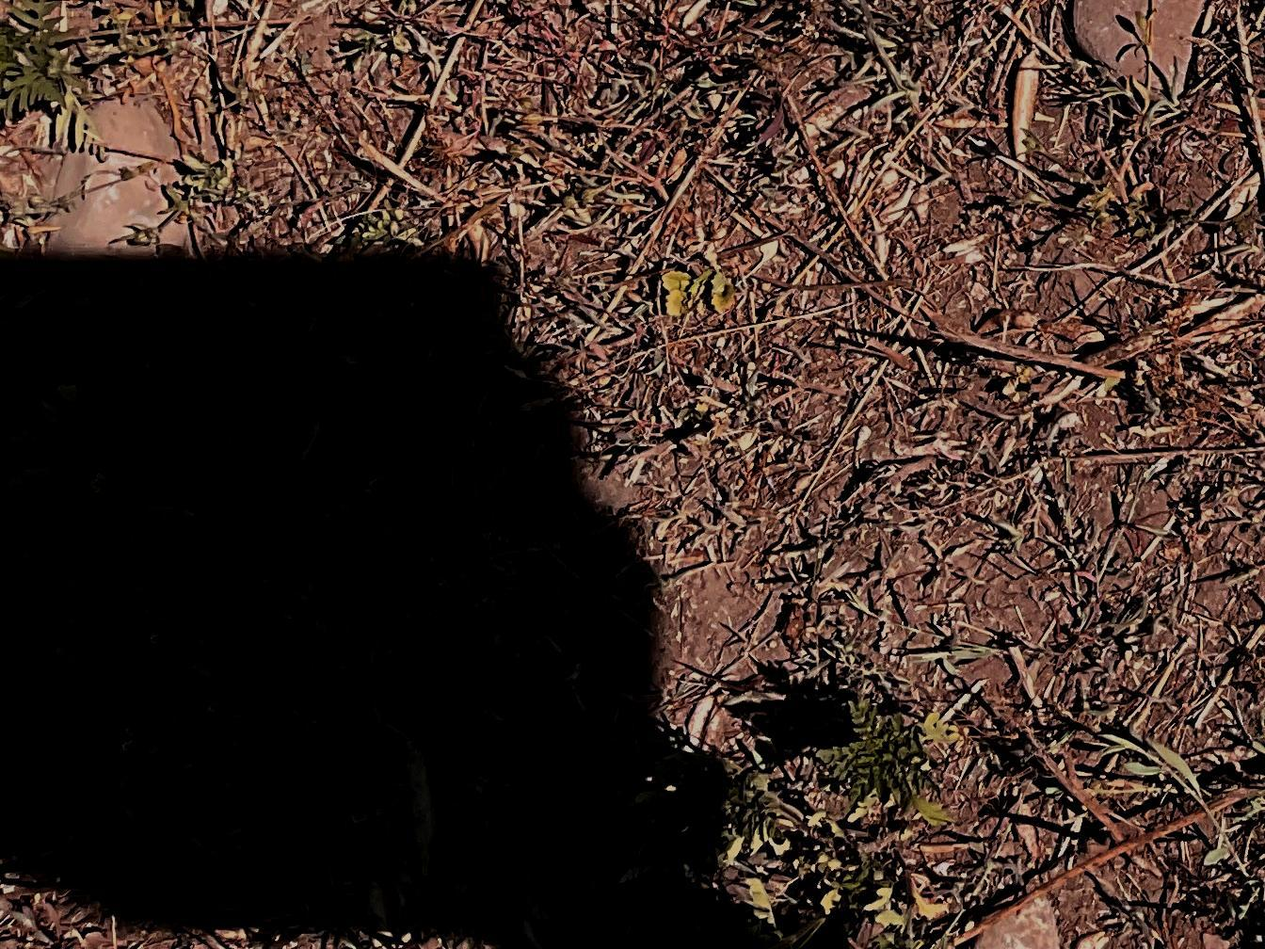AMBEL: (793, 670, 960, 828)
